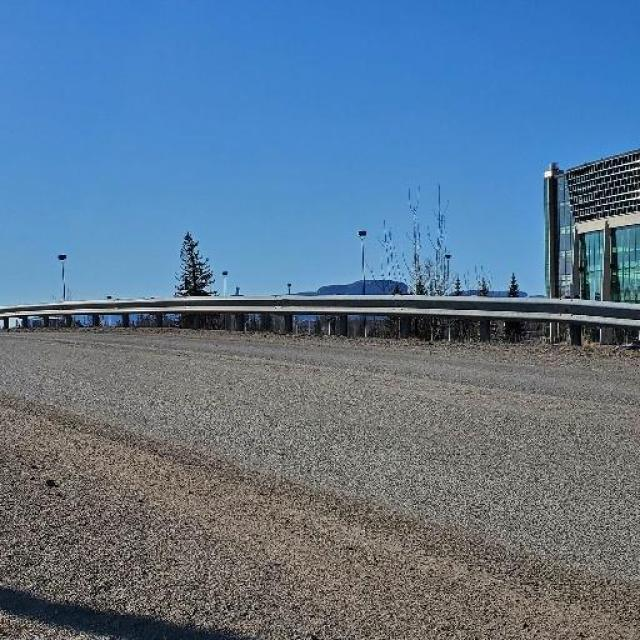Guard rail: (0, 293, 640, 344)
